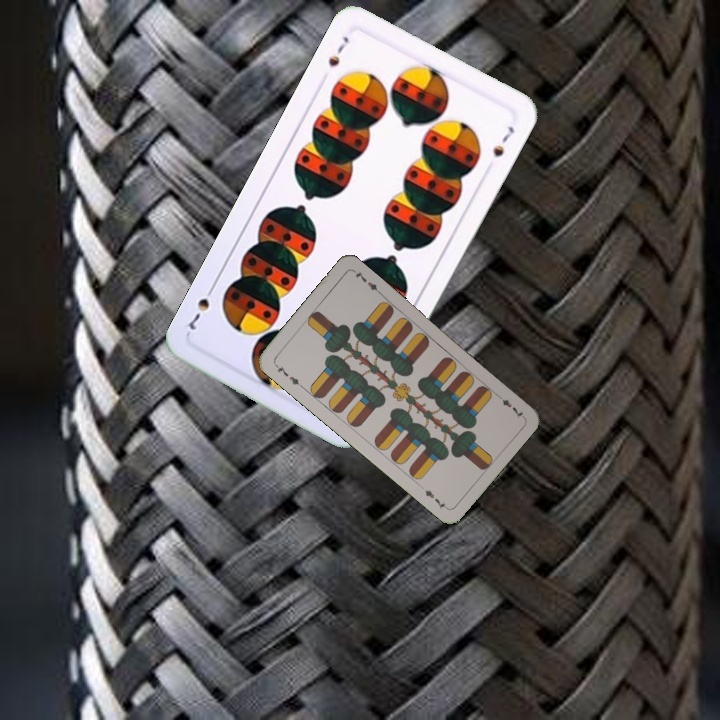E7: (492, 389, 526, 421), (271, 360, 305, 390)
S7: (324, 32, 352, 70)
